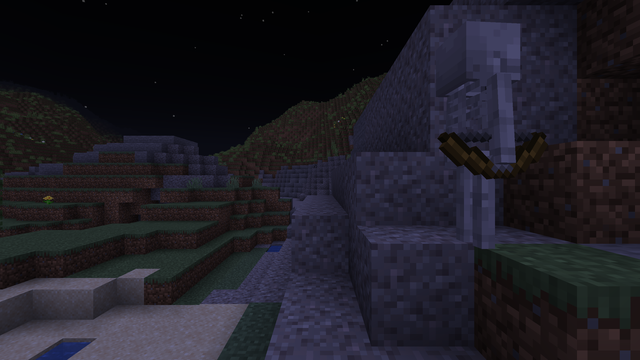squelettes: (430, 19, 530, 251)
